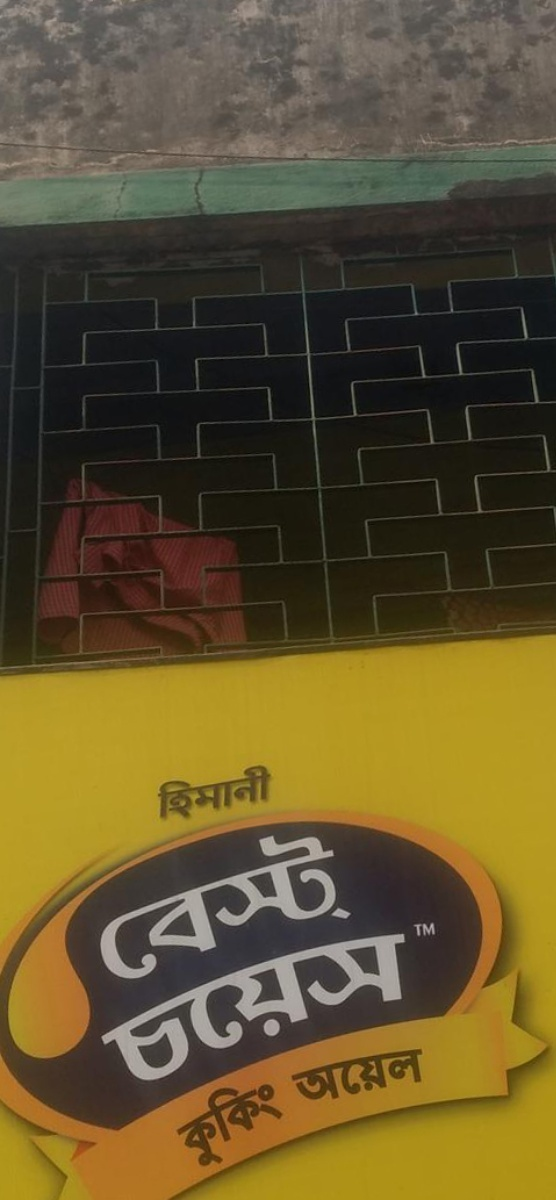text: (97, 909, 112, 1101), (113, 909, 128, 1101), (129, 909, 144, 1101), (145, 909, 160, 1101), (161, 909, 176, 1101), (177, 909, 192, 1101), (193, 909, 208, 1101), (209, 909, 224, 1101), (225, 909, 240, 1101), (241, 909, 256, 1101), (257, 909, 272, 1101), (273, 909, 288, 1101), (289, 909, 304, 1101), (305, 909, 320, 1101), (321, 909, 336, 1101), (337, 909, 352, 1101), (353, 909, 368, 1101), (369, 909, 384, 1101), (385, 909, 400, 1101), (401, 909, 416, 1101), (97, 814, 112, 996), (113, 814, 128, 996), (129, 814, 144, 996), (145, 814, 160, 996), (161, 814, 176, 996), (177, 814, 192, 996), (193, 814, 208, 996), (209, 814, 224, 996), (225, 814, 240, 996), (241, 814, 256, 996), (257, 814, 272, 996), (273, 814, 288, 996), (289, 814, 304, 996), (305, 814, 320, 996), (321, 814, 336, 996), (337, 814, 352, 996), (353, 814, 368, 996), (369, 814, 384, 996), (161, 1065, 176, 1180), (177, 1065, 192, 1180), (193, 1065, 208, 1180), (209, 1065, 224, 1180), (225, 1065, 240, 1180), (241, 1065, 256, 1180), (257, 1065, 272, 1180), (273, 1065, 288, 1180), (289, 1065, 300, 1180), (417, 1039, 433, 1111), (161, 753, 176, 825), (177, 753, 192, 825), (193, 753, 208, 825), (209, 753, 224, 825), (225, 753, 240, 825), (241, 753, 256, 825), (257, 753, 272, 825), (289, 1039, 304, 1111), (305, 1039, 320, 1111), (321, 1039, 336, 1111), (337, 1039, 352, 1111), (353, 1039, 368, 1111), (369, 1039, 384, 1111), (385, 1039, 400, 1111), (401, 1039, 416, 1111), (273, 753, 287, 825), (91, 909, 96, 1101), (417, 909, 422, 1101), (150, 753, 160, 825), (93, 814, 96, 996), (385, 814, 388, 996), (417, 918, 432, 940), (285, 1039, 288, 1111), (411, 918, 416, 940), (433, 918, 438, 940)
